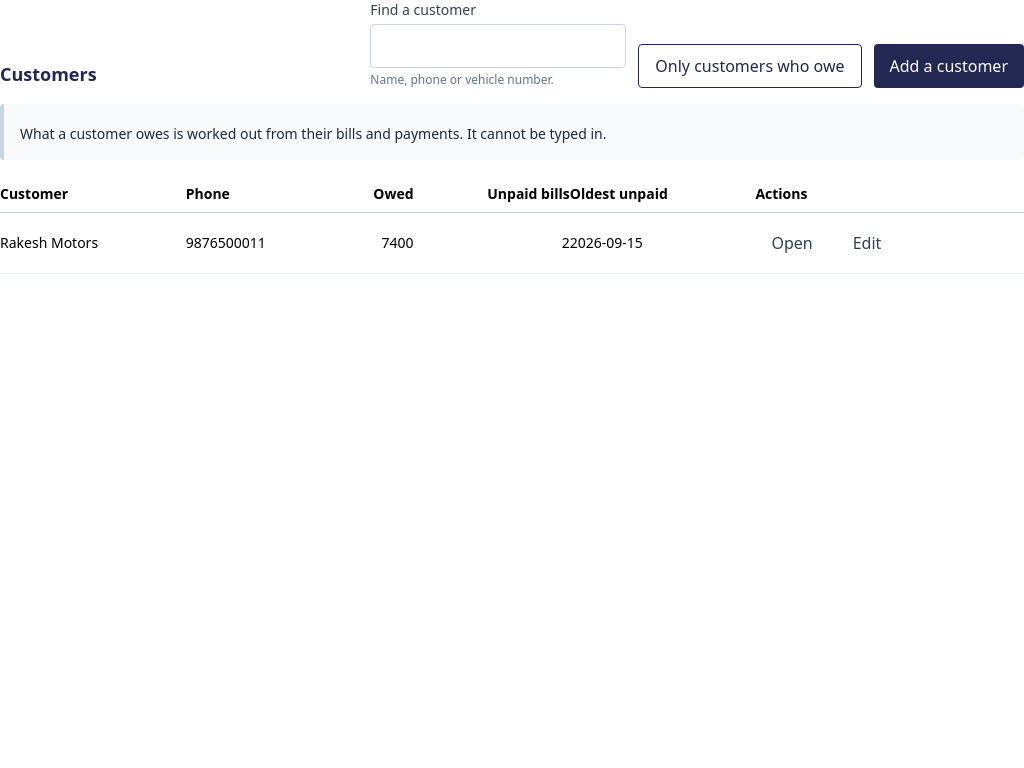
Test case: FR-CUST-004 — a suspected duplicate warns, and never blocks › warns when the phone already belongs to someone
This screenshot has width=1024, height=768.
Expected: the text "Rakesh Motors" is shown, [0,213,186,274]
Click the button "Add a customer" at (949, 66), box [874,44,1023,88]
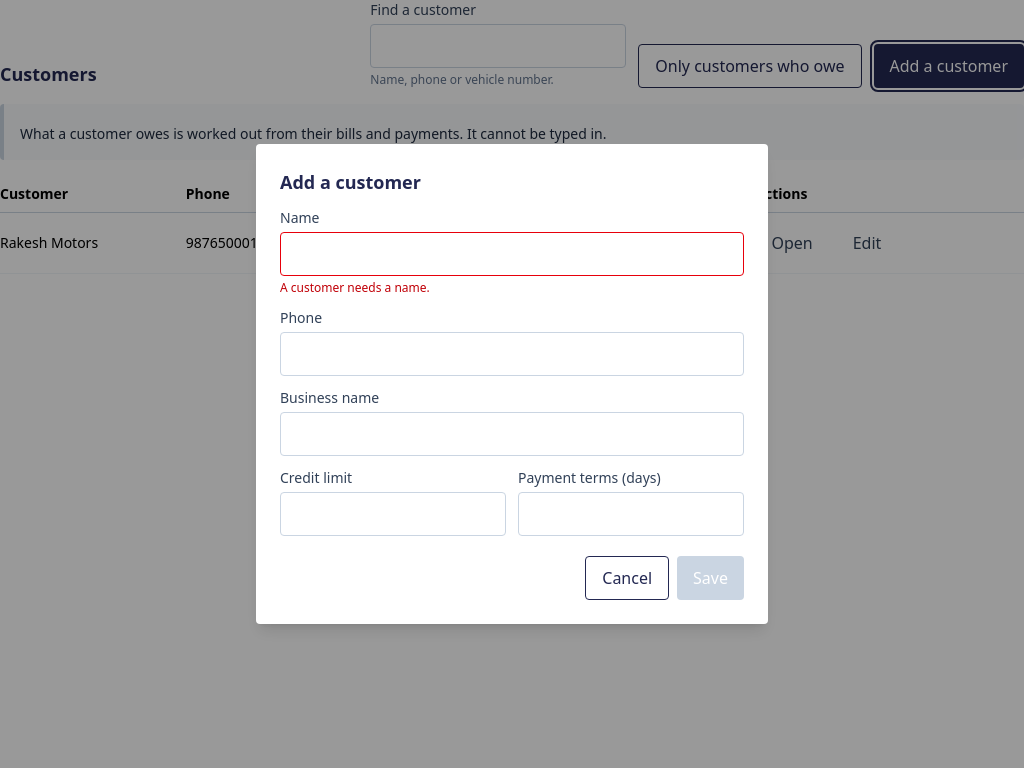
Type "Rakesh Motors Two" into the field labelled "Name" at (512, 254), box [280,232,744,276]
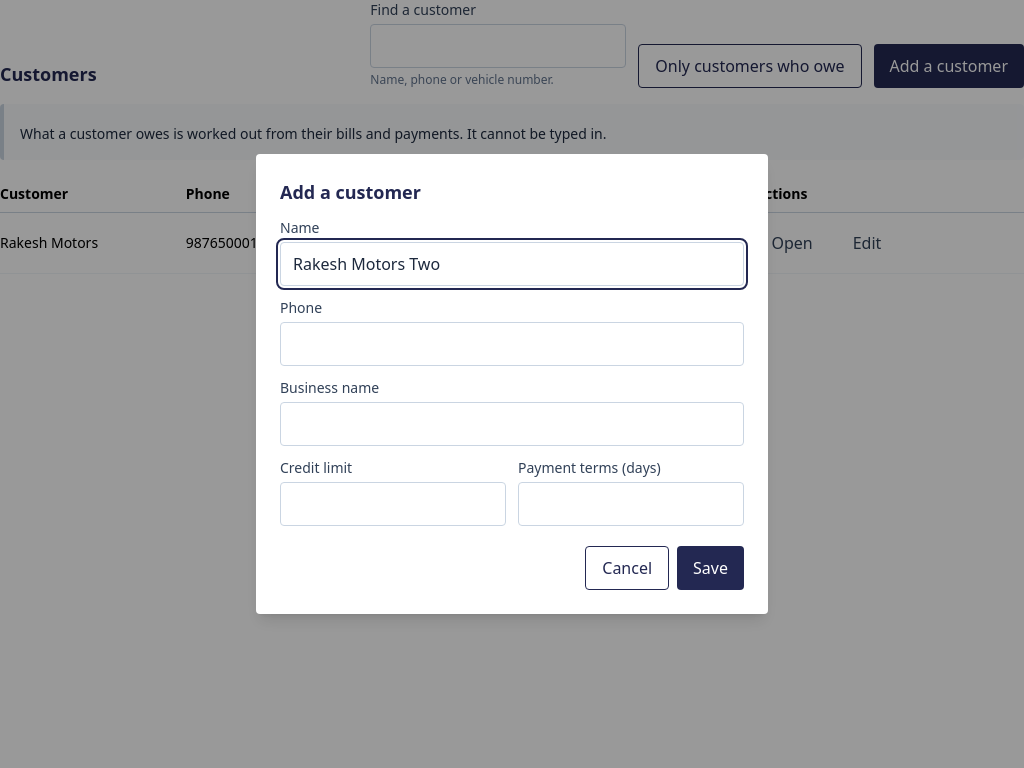
Type "9876500011" into the field labelled "Phone" at (512, 344), box [280,322,744,366]
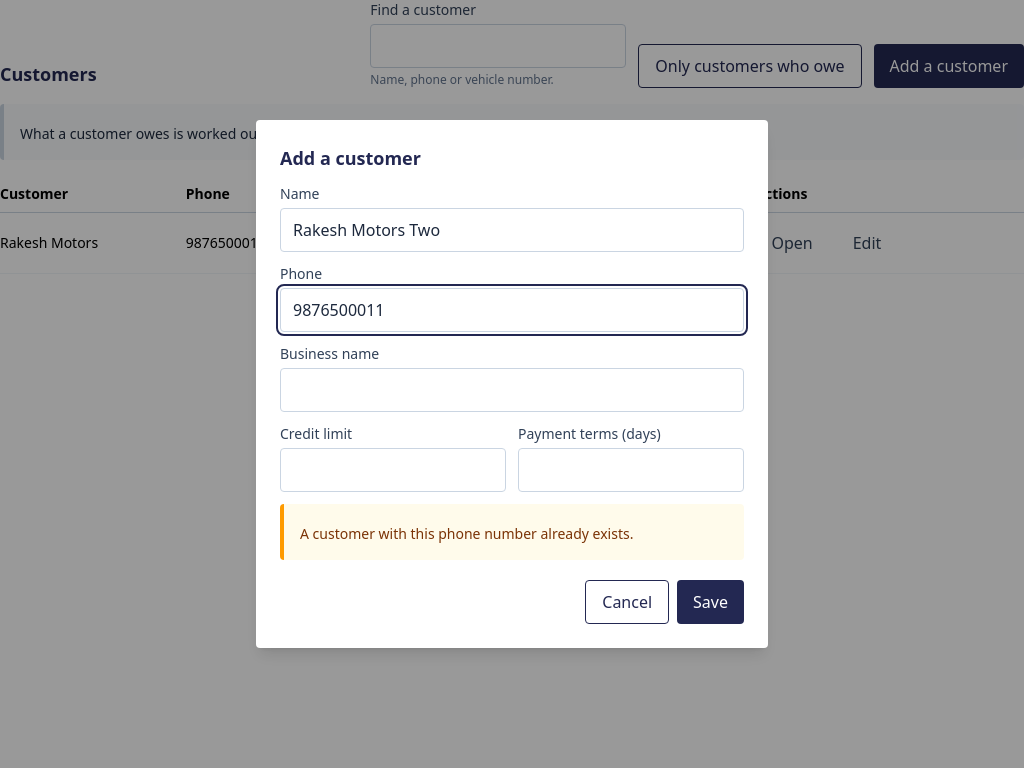
Expected: the button "Save" is enabled, [677,580,744,624]
Expected: the text "A customer with this phone number already exists." is shown, [300,524,633,543]
